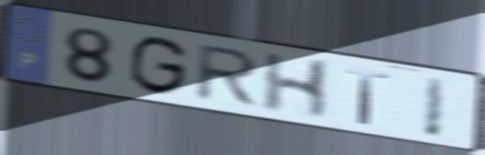8: (60, 26, 119, 85)
G: (126, 34, 191, 98)
H: (260, 51, 335, 122)
I: (421, 73, 450, 140)
R: (191, 43, 264, 110)
T: (343, 64, 393, 128)
